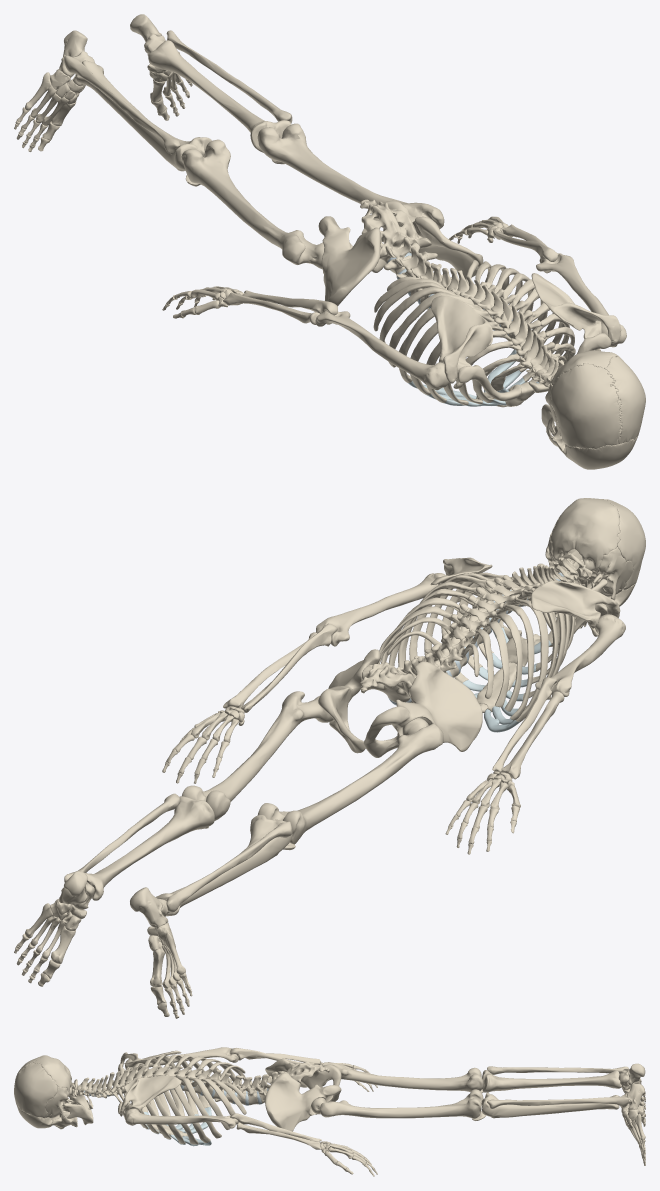
The model's file is skeleton.glb.
3 views of the same model, one above another, from view 1: azimuth 30°, elevation 25°; view 2: azimuth 150°, elevation 25°; view 3: azimuth 270°, elevation 25° (orthographic). The views are drawn at different scales.
Parts seen in each view (by area): view 1: FJ3380, FJ3365, FJ3259, FJ3152, FJ3384, FJ3282, FJ3368, FJ3279, FJ3393, FJ3274, FJ3387, FJ3288 (+13 smaller); view 2: FJ3152, FJ3365, FJ3259, FJ3309, FJ3282, FJ3384, FJ3288, FJ3387, FJ3262, FJ3368, FJ3380, FJ3393 (+14 smaller); view 3: FJ3259, FJ3288, FJ3365, FJ3274, FJ3387, FJ3282, FJ3279, FJ3262, FJ3152, FJ3260, FJ3366, FJ3309 (+24 smaller).
Boxes of the visible parts, x1,y1,x2,y2 form: FJ3380: (550,363,621,448); FJ3365: (181,139,324,269); FJ3259: (257,123,444,229); FJ3152: (318,216,380,306); FJ3384: (431,295,492,388); FJ3282: (148,40,291,152); FJ3368: (315,311,449,390); FJ3279: (531,273,621,350); FJ3393: (360,199,431,263); FJ3274: (604,356,645,444); FJ3387: (76,60,211,171); FJ3288: (372,200,483,278); FJ3152: (363,661,482,757); FJ3365: (257,717,443,844); FJ3259: (182,691,333,820); FJ3309: (550,498,620,578); FJ3282: (85,796,214,900); FJ3384: (531,580,620,636); FJ3288: (318,649,380,753); FJ3387: (156,815,292,916); FJ3262: (315,573,445,646); FJ3368: (535,614,625,696); FJ3380: (607,499,645,589); FJ3393: (360,662,415,702); FJ3259: (311,1089,483,1118); FJ3288: (265,1073,341,1131); FJ3365: (322,1062,483,1091); FJ3274: (14,1062,57,1118); FJ3387: (482,1070,621,1092); FJ3282: (481,1092,619,1118); FJ3279: (120,1075,181,1116); FJ3262: (125,1108,238,1128); FJ3152: (265,1058,341,1102); FJ3260: (487,1096,629,1108); FJ3366: (487,1066,628,1074); FJ3309: (33,1055,72,1095).
Bounding box in the file's own units: 648 × 254 × 1707.
